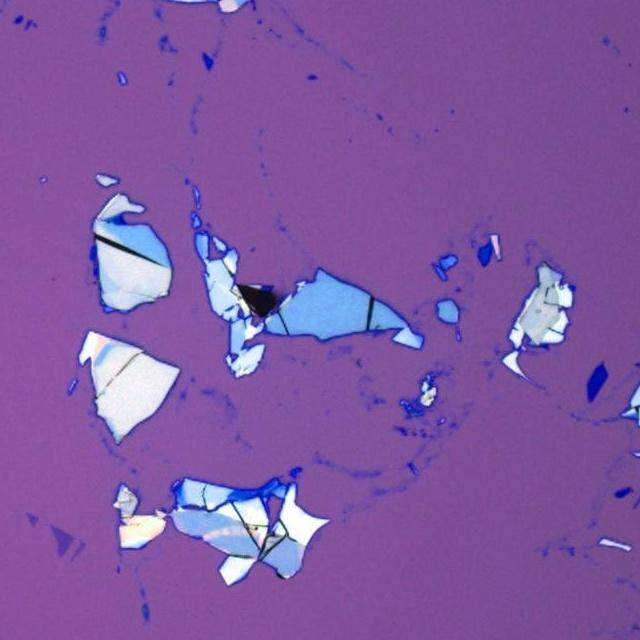monolayer-eWW4: (49, 523, 76, 558), (70, 538, 86, 562), (24, 512, 40, 528)
